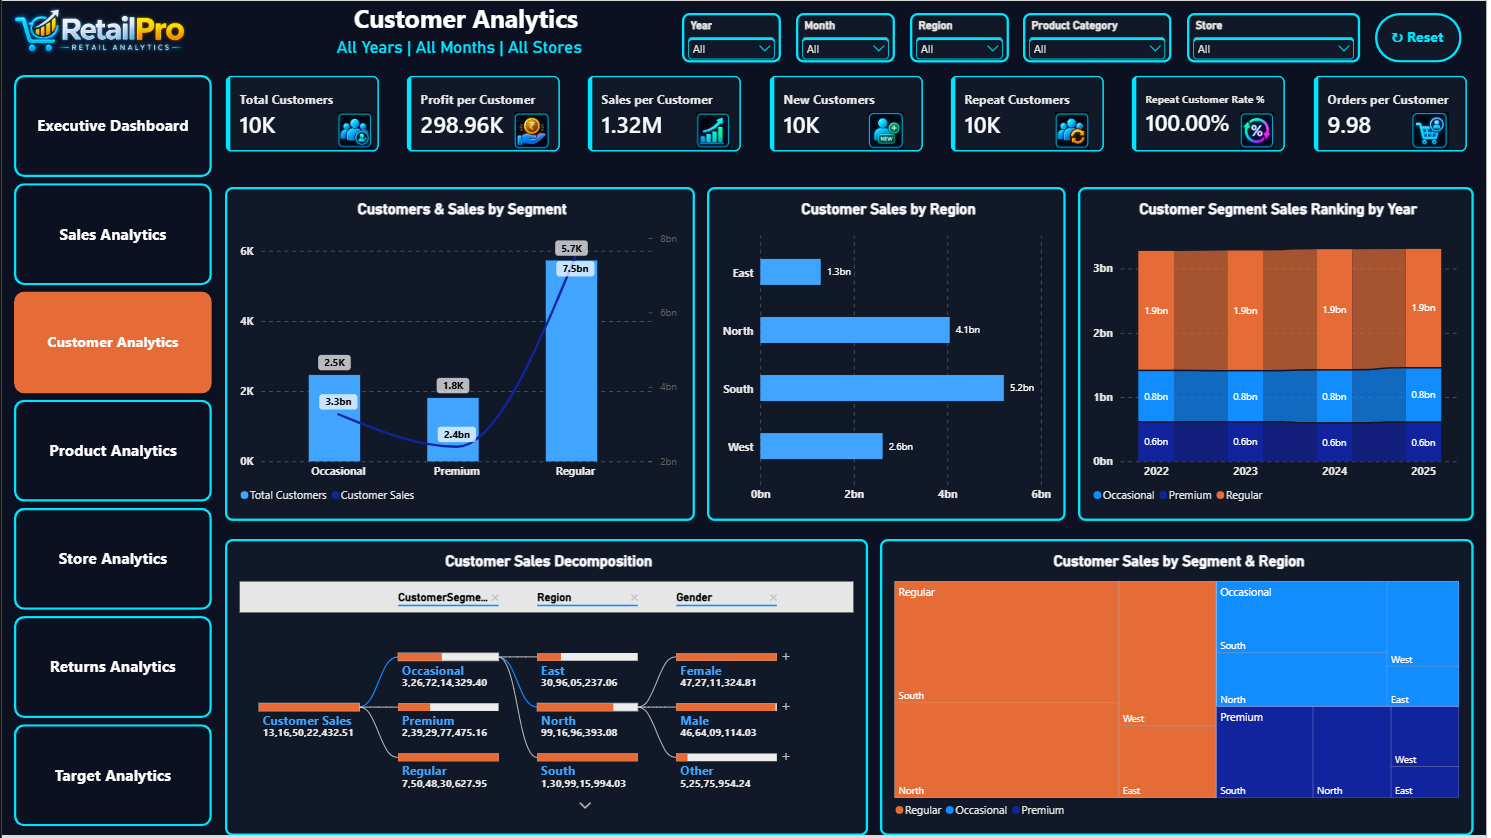

The page's visual inventory and layout, read from the dashboard file:
{"tool":"powerbi","page":{"name":"Customer Analytics","canvas":[1920,1080],"ordinal":2},"visuals":[{"type":"cardVisual","fields":{"Data":["All_Measures.Sales per Customer"]},"box":[757.3,96,200,100],"z":0},{"type":"cardVisual","fields":{"Data":["All_Measures.New Customers"]},"box":[992,96,200,100],"z":1000},{"type":"cardVisual","fields":{"Data":["All_Measures.Repeat Customers"]},"box":[1226.7,96,200,100],"z":2000},{"type":"cardVisual","fields":{"Data":["All_Measures.Repeat Customer Rate %"]},"box":[1461.3,96,200,100],"z":3000},{"type":"cardVisual","fields":{"Data":["All_Measures.Orders per Customer"]},"box":[1696,96,200,100],"z":4000},{"type":"lineClusteredColumnComboChart","title":"Customers & Sales by Segment","fields":{"Category":["DimCustomer.CustomerSegment"],"Y":["All_Measures.Total Customers"],"Y2":["All_Measures.Customer Sales"]},"box":[288,240,608,432],"z":5000},{"type":"clusteredBarChart","title":"Customer Sales by Region","fields":{"Category":["DimCustomer.Region"],"Y":["All_Measures.Customer Sales"]},"box":[912,240,464,432],"z":6000},{"type":"ribbonChart","title":"Customer Segment Sales Ranking by Year","fields":{"Category":["DimDate.Year"],"Series":["DimCustomer.CustomerSegment"],"Y":["All_Measures.Customer Sales"]},"box":[1392,240,512,432],"z":7000},{"type":"decompositionTreeVisual","title":"Customer Sales Decomposition","fields":{"Analyze":["All_Measures.Customer Sales"],"ExplainBy":["DimCustomer.CustomerSegment","DimCustomer.Region","DimCustomer.Gender","DimCustomer.Age"]},"box":[288,696,832,384],"z":8000},{"type":"treemap","title":"Customer Sales by Segment & Region","fields":{"Details":["DimCustomer.Region"],"Group":["DimCustomer.CustomerSegment"],"Values":["All_Measures.Customer Sales"]},"box":[1136,696,768,384],"z":9000},{"type":"slicer","fields":{"Values":["DimDate.Year"]},"box":[880,16,128,64],"z":10000},{"type":"slicer","fields":{"Values":["DimDate.MonthName"]},"box":[1027.2,16,128,64],"z":11000},{"type":"slicer","fields":{"Values":["DimStore.Region"]},"box":[1174.4,16,128,64],"z":12000},{"type":"slicer","fields":{"Values":["DimStore.StoreName"]},"box":[1532.8,16,224,64],"z":13000},{"type":"slicer","fields":{"Values":["DimProduct.Category"]},"box":[1321.6,16,192,64],"z":14000},{"type":"image","box":[0,0,256,80],"z":15000},{"type":"textbox","box":[368,48,448,32],"z":16000},{"type":"textbox","box":[432,0,336,48],"z":17000},{"type":"actionButton","box":[1776,16,112,64],"z":18000},{"type":"pageNavigator","box":[16,96,256,976],"z":19000},{"type":"cardVisual","fields":{"Data":["All_Measures.Profit per Customer"]},"box":[522.7,96,200,100],"z":20000},{"type":"cardVisual","fields":{"Data":["All_Measures.Total Customers"]},"box":[288,96,200,100],"z":21000},{"type":"image","box":[416,144,80,48],"z":22000},{"type":"image","box":[645,144,80,48],"z":23000},{"type":"image","box":[880,144,80,48],"z":24000},{"type":"image","box":[1104,144,80,48],"z":25000},{"type":"image","box":[1344,144,80,48],"z":26000},{"type":"image","box":[1584,144,80,48],"z":27000},{"type":"image","box":[1808,144,80,48],"z":28000}]}

Visuals, with their boxes in screenshot pixels (x1, y1, x2, y2), scaled from the page's 1920x1080 canvas onto the 1491x838 screenshot:
cardVisual - All_Measures.Sales per Customer: l=588, t=74, r=743, b=152
cardVisual - All_Measures.New Customers: l=770, t=74, r=926, b=152
cardVisual - All_Measures.Repeat Customers: l=953, t=74, r=1108, b=152
cardVisual - All_Measures.Repeat Customer Rate %: l=1135, t=74, r=1290, b=152
cardVisual - All_Measures.Orders per Customer: l=1317, t=74, r=1472, b=152
"Customers & Sales by Segment" lineClusteredColumnComboChart: l=224, t=186, r=696, b=521
"Customer Sales by Region" clusteredBarChart: l=708, t=186, r=1069, b=521
"Customer Segment Sales Ranking by Year" ribbonChart: l=1081, t=186, r=1479, b=521
"Customer Sales Decomposition" decompositionTreeVisual: l=224, t=540, r=870, b=837
"Customer Sales by Segment & Region" treemap: l=882, t=540, r=1479, b=837
slicer - DimDate.Year: l=683, t=12, r=783, b=62
slicer - DimDate.MonthName: l=798, t=12, r=897, b=62
slicer - DimStore.Region: l=912, t=12, r=1011, b=62
slicer - DimStore.StoreName: l=1190, t=12, r=1364, b=62
slicer - DimProduct.Category: l=1026, t=12, r=1175, b=62
image: l=0, t=0, r=199, b=62
textbox: l=286, t=37, r=634, b=62
textbox: l=335, t=0, r=596, b=37
actionButton: l=1379, t=12, r=1466, b=62
pageNavigator: l=12, t=74, r=211, b=832
cardVisual - All_Measures.Profit per Customer: l=406, t=74, r=561, b=152
cardVisual - All_Measures.Total Customers: l=224, t=74, r=379, b=152
image: l=323, t=112, r=385, b=149
image: l=501, t=112, r=563, b=149
image: l=683, t=112, r=746, b=149
image: l=857, t=112, r=919, b=149
image: l=1044, t=112, r=1106, b=149
image: l=1230, t=112, r=1292, b=149
image: l=1404, t=112, r=1466, b=149
